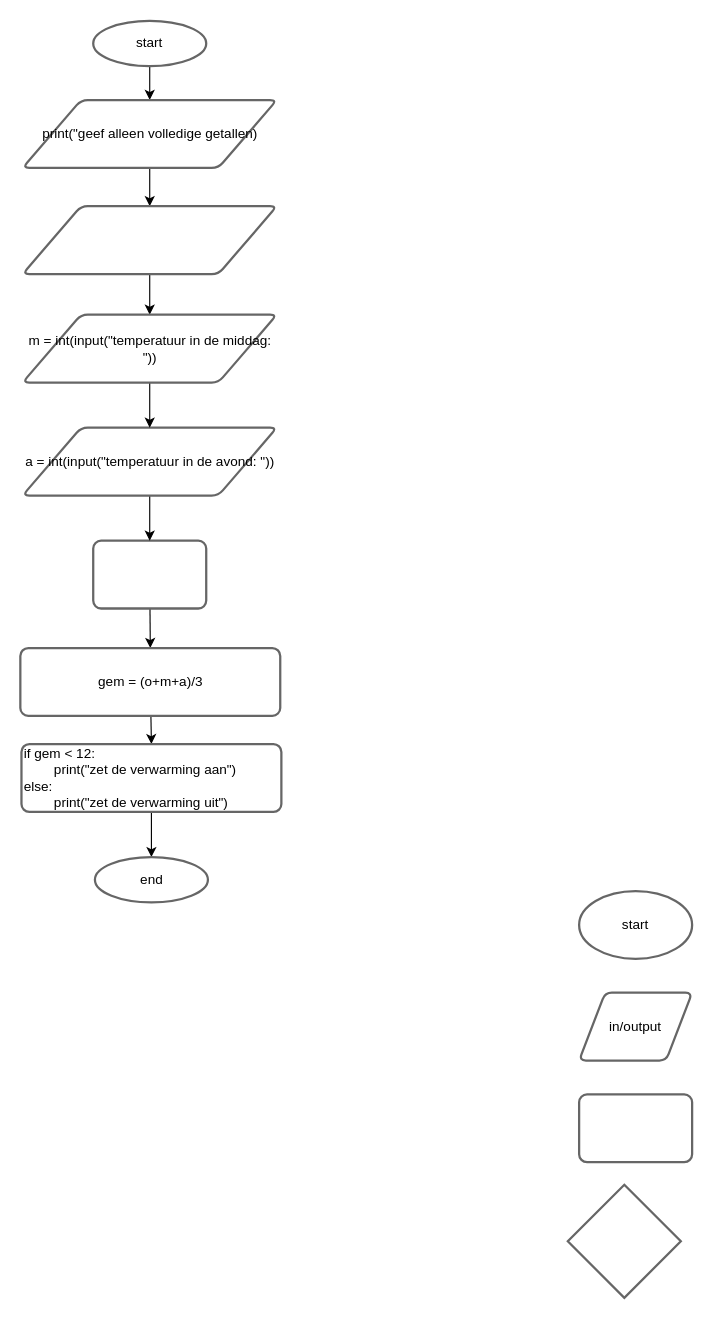
The diagram is 713 pixels wide and 1318 high, and some of its shapes have lost their labels. Here are the shapes that lost their labels. From the top down, the centre of each, then its label:
pixel 149 240: o = int(input(" temperatuur in de ochtend: " ))
pixel 149 574: lst = [o, m, a]
pixel 635 1128: process
pixel 623 1240: true
